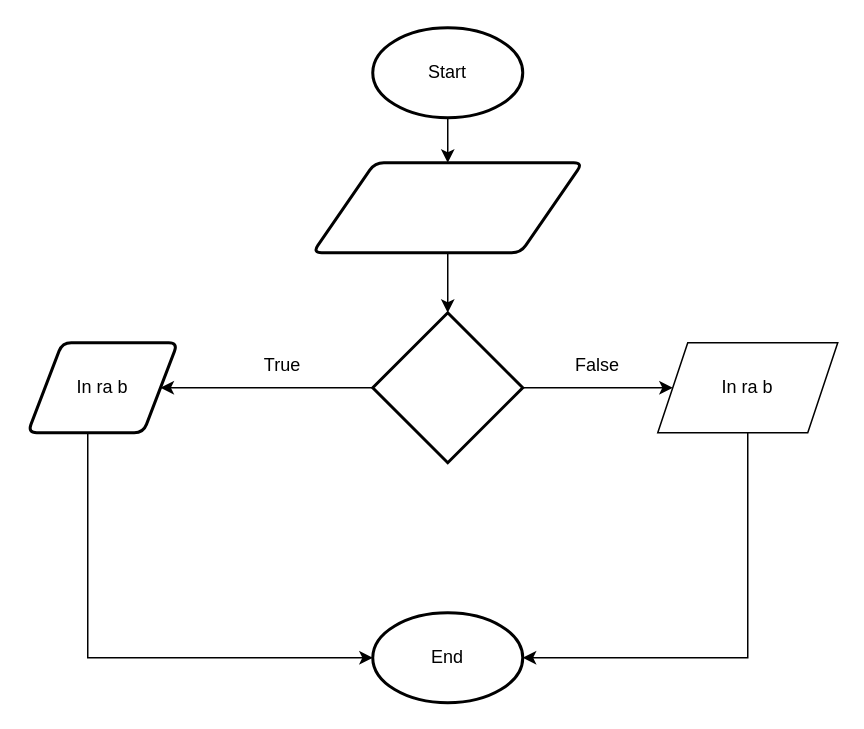
Some shapes in this 864 by 729 pixel diagram are drawn without their labels. Here are the shapes that lost their labels. From the top down, the centre of each, then its label:
point 447,207: Nhập a, b
point 447,387: a > b ?
